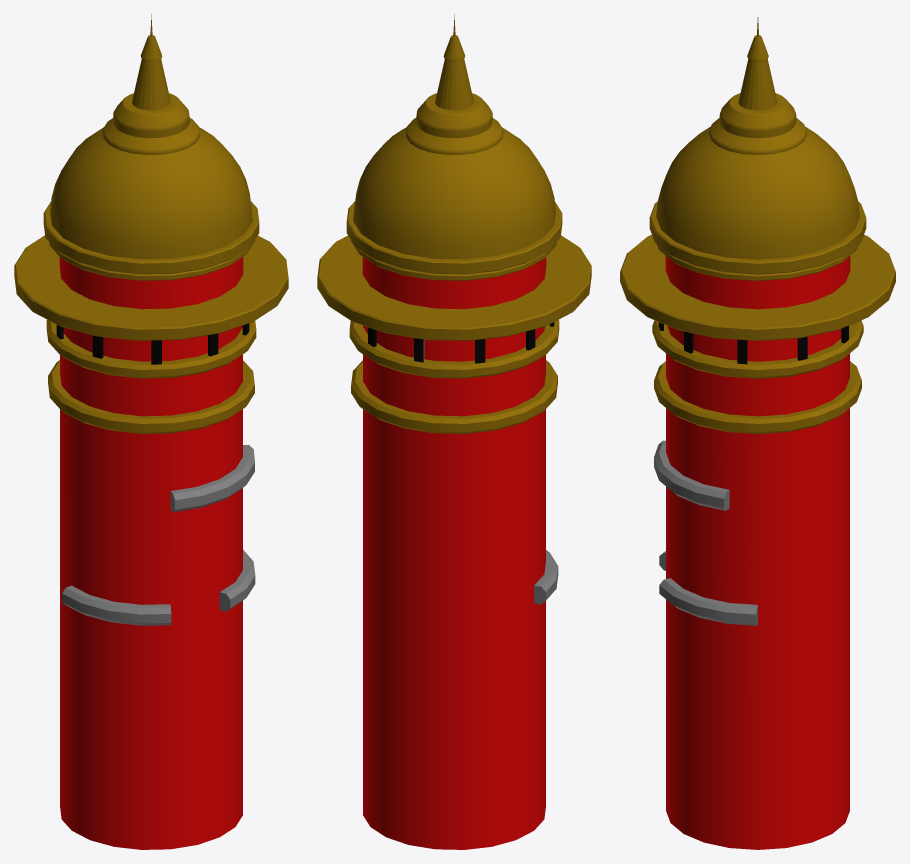
File: LilTower.fbx
3 renders of one model, left to right at view 1: azimuth 30°, elevation 25°; view 2: azimuth 150°, elevation 25°; view 3: azimuth 270°, elevation 25°, orthographic.
Parts seen in each view (by area): view 1: MainTower; view 2: MainTower; view 3: MainTower.
Part boxes in pixels (x1,y1,x2,y2): MainTower: (14, 14, 288, 849); MainTower: (317, 14, 591, 849); MainTower: (620, 17, 895, 849).
Size of the model in its own units: 121 by 386 by 121.
